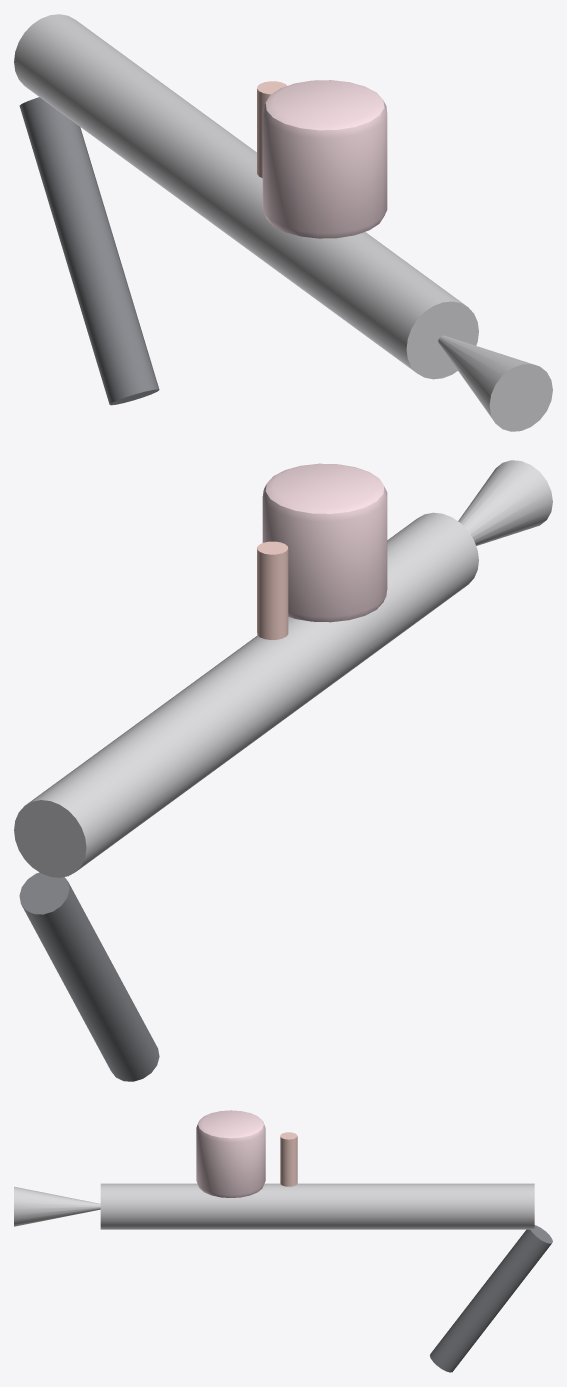
File: aura-micro-diffusion-airbrush.glb
3 renders of one model, top to bottom at view 1: azimuth 30°, elevation 25°; view 2: azimuth 150°, elevation 25°; view 3: azimuth 270°, elevation 25°, orthographic. The views are drawn at different scales.
Parts seen in each view (by area): view 1: airbrush_Barrel, airbrush_FluidCup, airbrush_HoseConnector, airbrush_NozzleTip, airbrush_DualActionTrigger; view 2: airbrush_Barrel, airbrush_FluidCup, airbrush_HoseConnector, airbrush_NozzleTip, airbrush_DualActionTrigger; view 3: airbrush_Barrel, airbrush_FluidCup, airbrush_HoseConnector, airbrush_NozzleTip, airbrush_DualActionTrigger.
Part boxes in pixels (x1,y1,x2,y2): airbrush_Barrel: (14, 14, 478, 379); airbrush_FluidCup: (262, 80, 387, 238); airbrush_HoseConnector: (19, 97, 159, 405); airbrush_NozzleTip: (438, 335, 552, 431); airbrush_DualActionTrigger: (257, 81, 286, 177); airbrush_Barrel: (14, 512, 478, 877); airbrush_FluidCup: (262, 463, 387, 622); airbrush_HoseConnector: (19, 872, 159, 1081); airbrush_NozzleTip: (458, 460, 552, 545); airbrush_DualActionTrigger: (257, 541, 288, 639); airbrush_Barrel: (100, 1183, 534, 1229); airbrush_FluidCup: (196, 1110, 265, 1197); airbrush_HoseConnector: (430, 1225, 552, 1372); airbrush_NozzleTip: (14, 1186, 100, 1226); airbrush_DualActionTrigger: (280, 1132, 297, 1186).
Size of the model in its own units: 0.024 by 0.0944 by 0.1863.
